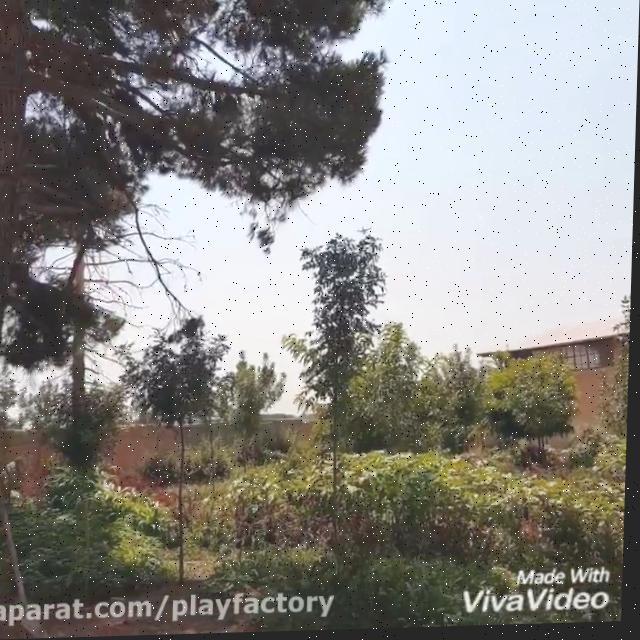drone: (355, 223, 376, 240)
